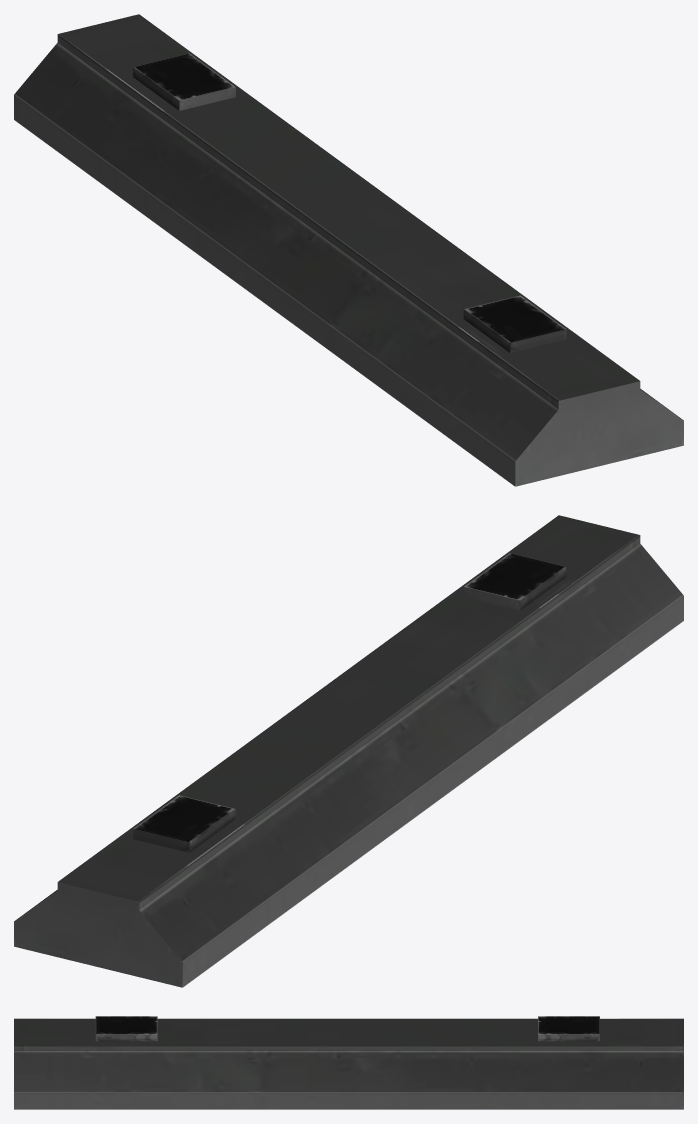
The picture shows the model from 3 angles, top to bottom: view 1: azimuth 30°, elevation 25°; view 2: azimuth 150°, elevation 25°; view 3: azimuth 270°, elevation 25°; orthographic projection. The views are drawn at different scales.
Parts seen in each view (by area): view 1: body0_model0_lod0_mesh0; view 2: body0_model0_lod0_mesh0; view 3: body0_model0_lod0_mesh0.
Part boxes in pixels (<box>): body0_model0_lod0_mesh0: <box>14,14,683,486</box>; body0_model0_lod0_mesh0: <box>14,515,683,987</box>; body0_model0_lod0_mesh0: <box>14,1016,683,1109</box>.
Size of the model in its own units: 12.4 by 5.98 by 63.78.
1 material, 1 textured.
